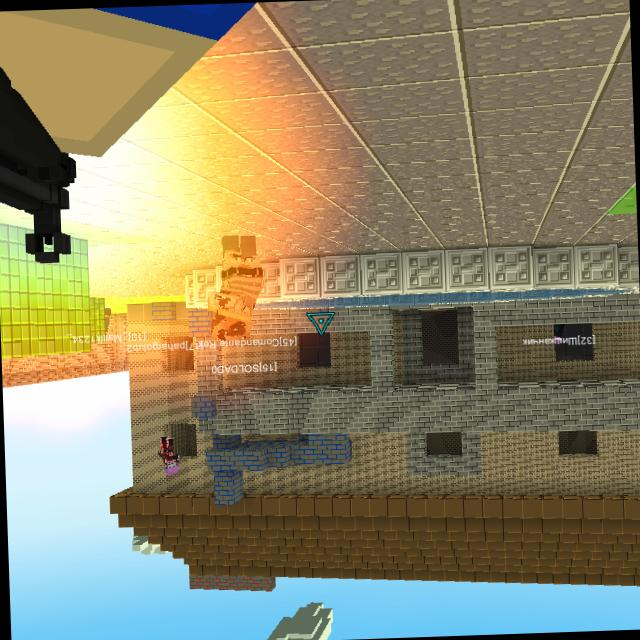enemy: (158, 435, 180, 476)
